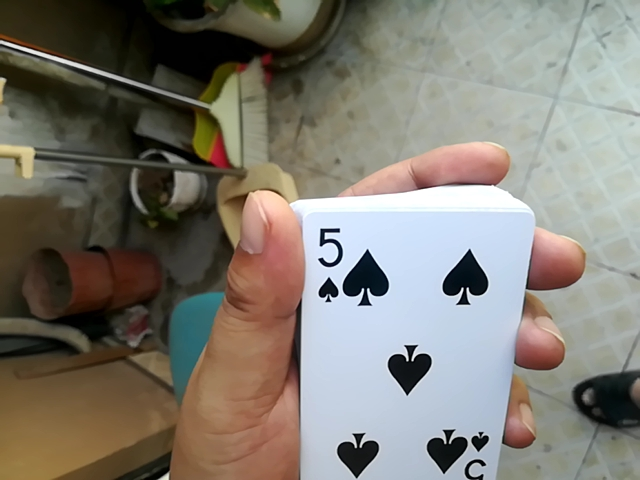ht 5: (286, 194, 522, 480)
